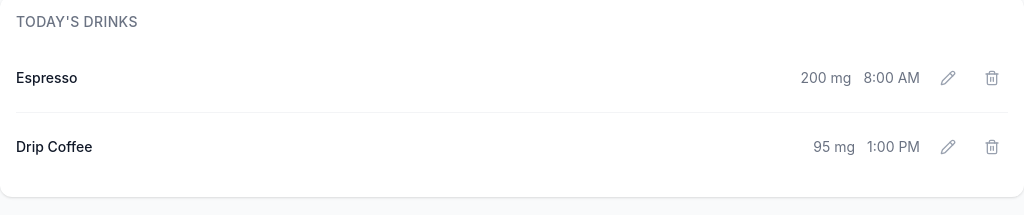
DrinkHistory › delete drink › first click shows confirm state
Click the button named "delete espresso" at [992, 78], box [976,56,1008,100]
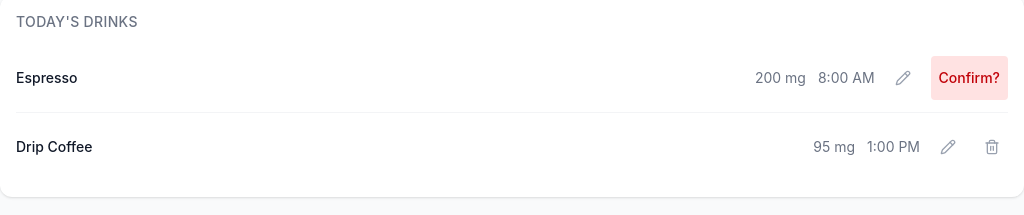
Now the button "Confirm?" is shown, box [931,56,1008,100]
